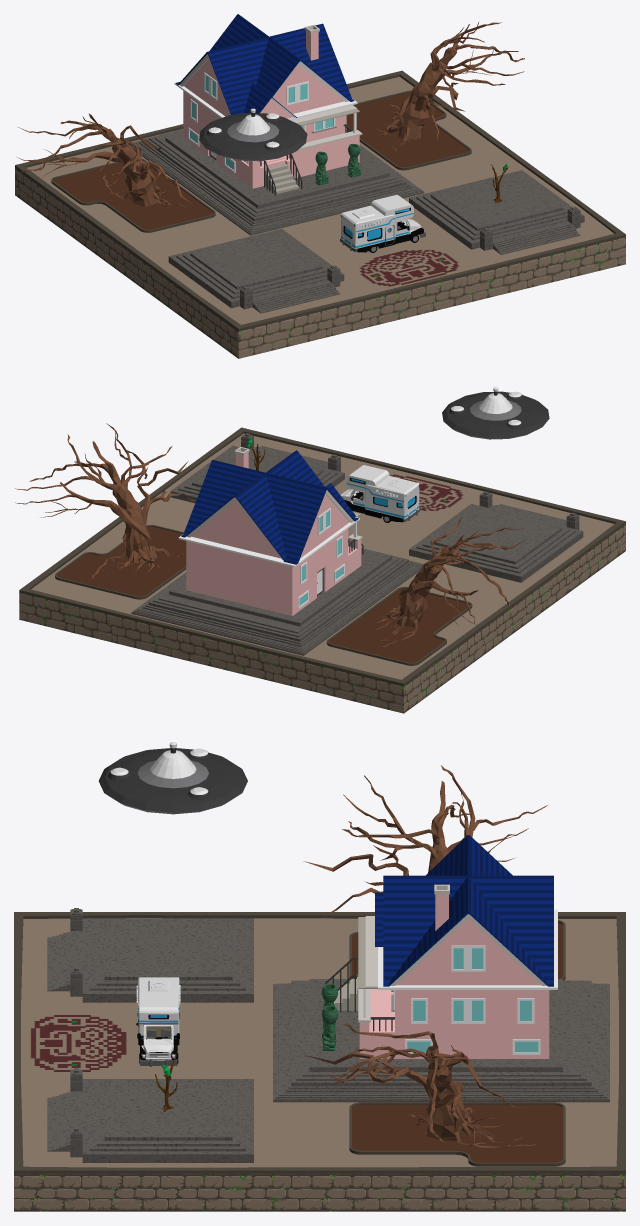
The picture shows the model from 3 angles, top to bottom: view 1: azimuth 30°, elevation 25°; view 2: azimuth 150°, elevation 25°; view 3: azimuth 270°, elevation 25°; orthographic projection. The views are drawn at different scales.
Visible parts, largest first — view 1: Cube.011, Cube.313, OBJRANDOM_UFO, VEHICLES_CAMPER; view 2: Cube.011, Cube.313, OBJRANDOM_UFO, VEHICLES_CAMPER; view 3: Cube.011, Cube.313, OBJRANDOM_UFO, VEHICLES_CAMPER.
Part boxes in pixels (x1=…): Cube.011: x1=15, y1=22, x2=625, y2=358; Cube.313: x1=174, y1=14, x2=362, y2=195; OBJRANDOM_UFO: x1=199, y1=108, x2=307, y2=161; VEHICLES_CAMPER: x1=340, y1=195, x2=425, y2=252; Cube.011: x1=15, y1=423, x2=625, y2=713; Cube.313: x1=178, y1=447, x2=363, y2=615; OBJRANDOM_UFO: x1=442, y1=387, x2=549, y2=439; VEHICLES_CAMPER: x1=340, y1=465, x2=420, y2=522; Cube.011: x1=14, y1=765, x2=625, y2=1211; Cube.313: x1=325, y1=835, x2=557, y2=1058; OBJRANDOM_UFO: x1=98, y1=742, x2=247, y2=814; VEHICLES_CAMPER: x1=136, y1=977, x2=180, y2=1066.
Bounding box in the file's own units: 5099 × 1951 × 4000.
Materials: 36 (5 with a texture image).
